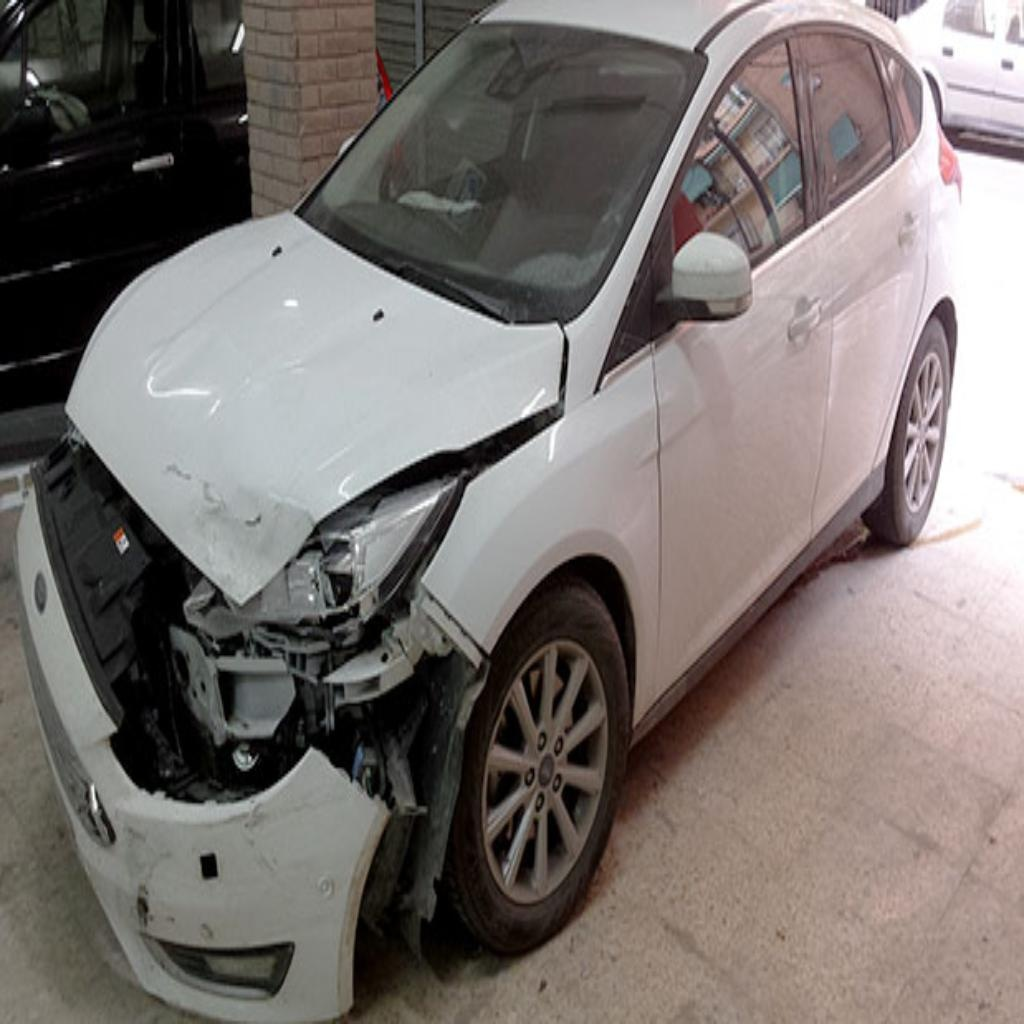Broken-glass: (24, 396, 460, 957), (193, 483, 463, 691)
